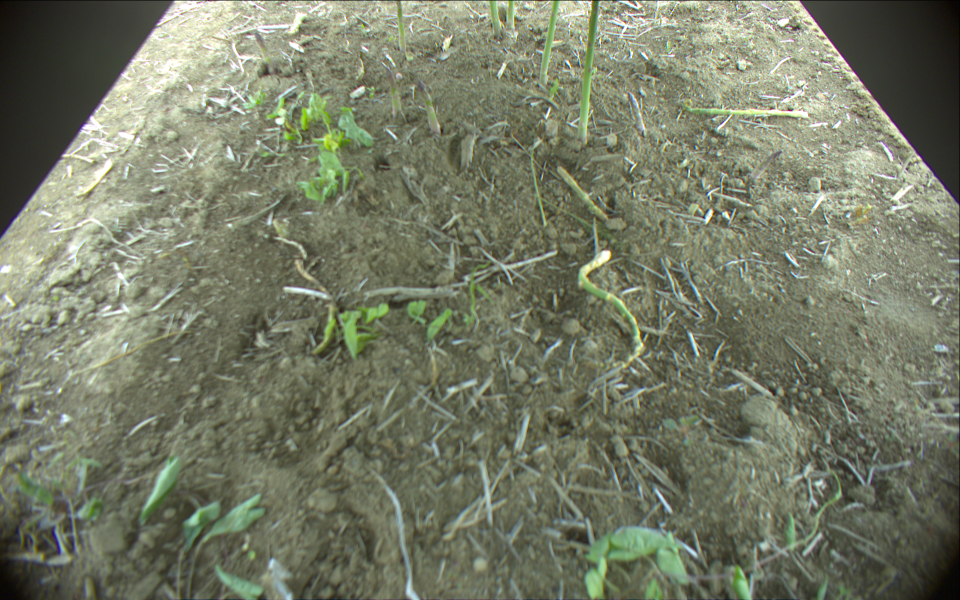aspa: (578, 251, 642, 364), (578, 1, 602, 143), (678, 101, 811, 122), (557, 166, 607, 221), (540, 1, 560, 85), (418, 80, 442, 134), (254, 30, 275, 74), (384, 66, 401, 118), (393, 1, 408, 52), (489, 1, 503, 37), (507, 1, 517, 40)
